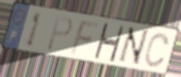1: (26, 12, 43, 49)
C: (143, 32, 170, 69)
F: (68, 20, 101, 56)
H: (92, 22, 126, 64)
N: (115, 25, 151, 67)
P: (45, 15, 75, 52)
